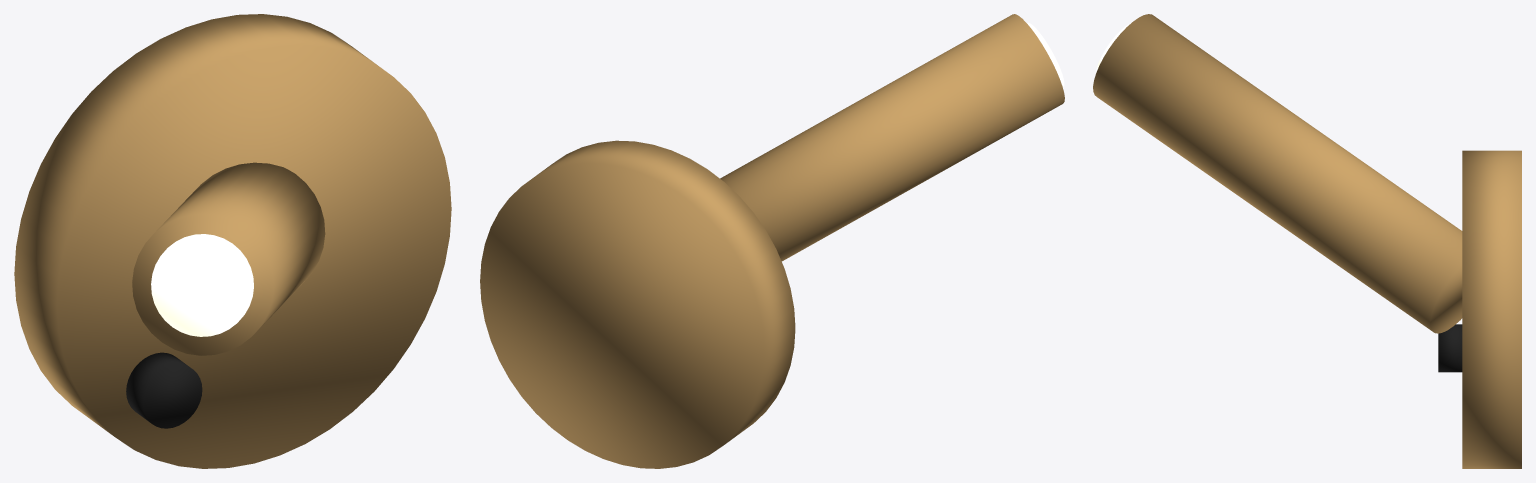
The picture shows the model from 3 angles, left to right: view 1: azimuth 30°, elevation 25°; view 2: azimuth 150°, elevation 25°; view 3: azimuth 270°, elevation 25°; orthographic projection. The views are drawn at different scales.
Parts seen in each view (by area): view 1: void-cloud-sg1; view 2: void-cloud-sg1; view 3: void-cloud-sg1.
Part boxes in pixels (left/top/right/bottom): void-cloud-sg1: left=14, top=14, right=451, bottom=468; void-cloud-sg1: left=480, top=14, right=1064, bottom=468; void-cloud-sg1: left=1093, top=14, right=1521, bottom=468.
Size of the model in its own units: 0.1098 by 0.0944 by 0.1076.
